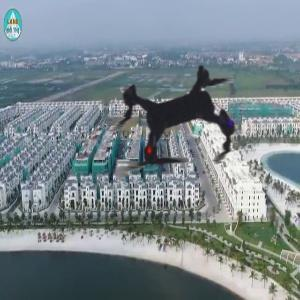drone: (66, 14, 290, 238)
